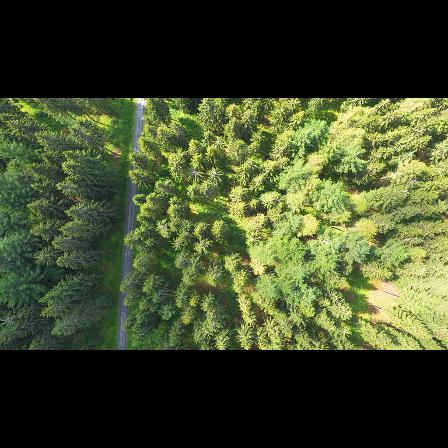Sick: (206, 316, 224, 332), (189, 165, 205, 182), (207, 166, 221, 185), (197, 327, 214, 342), (211, 137, 227, 151)
